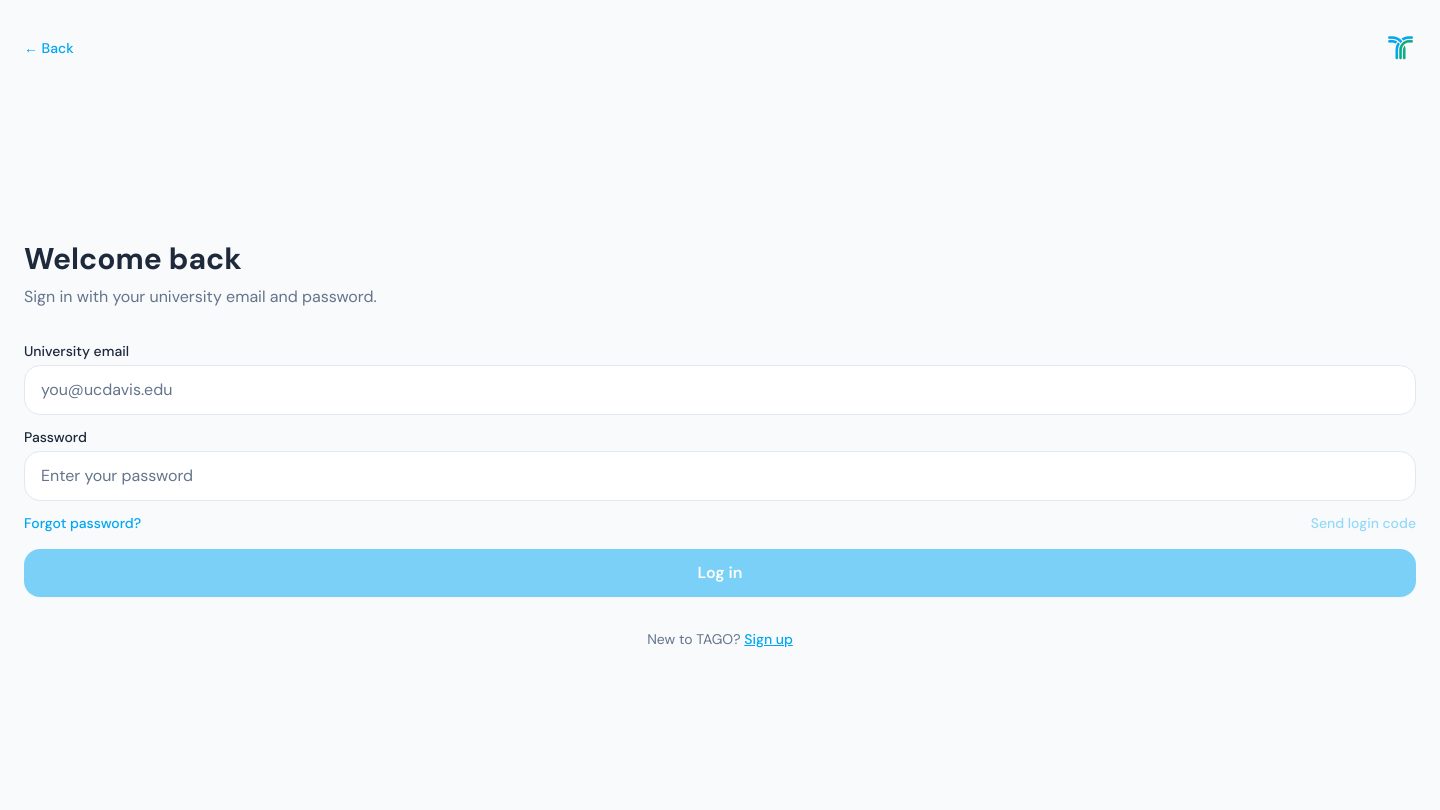
Test: Login screen › shows an error when a non-.edu email is typed
Type "maya@gmail.com" into the field with test id "email-input" at (720,390), box [24,365,1416,415]
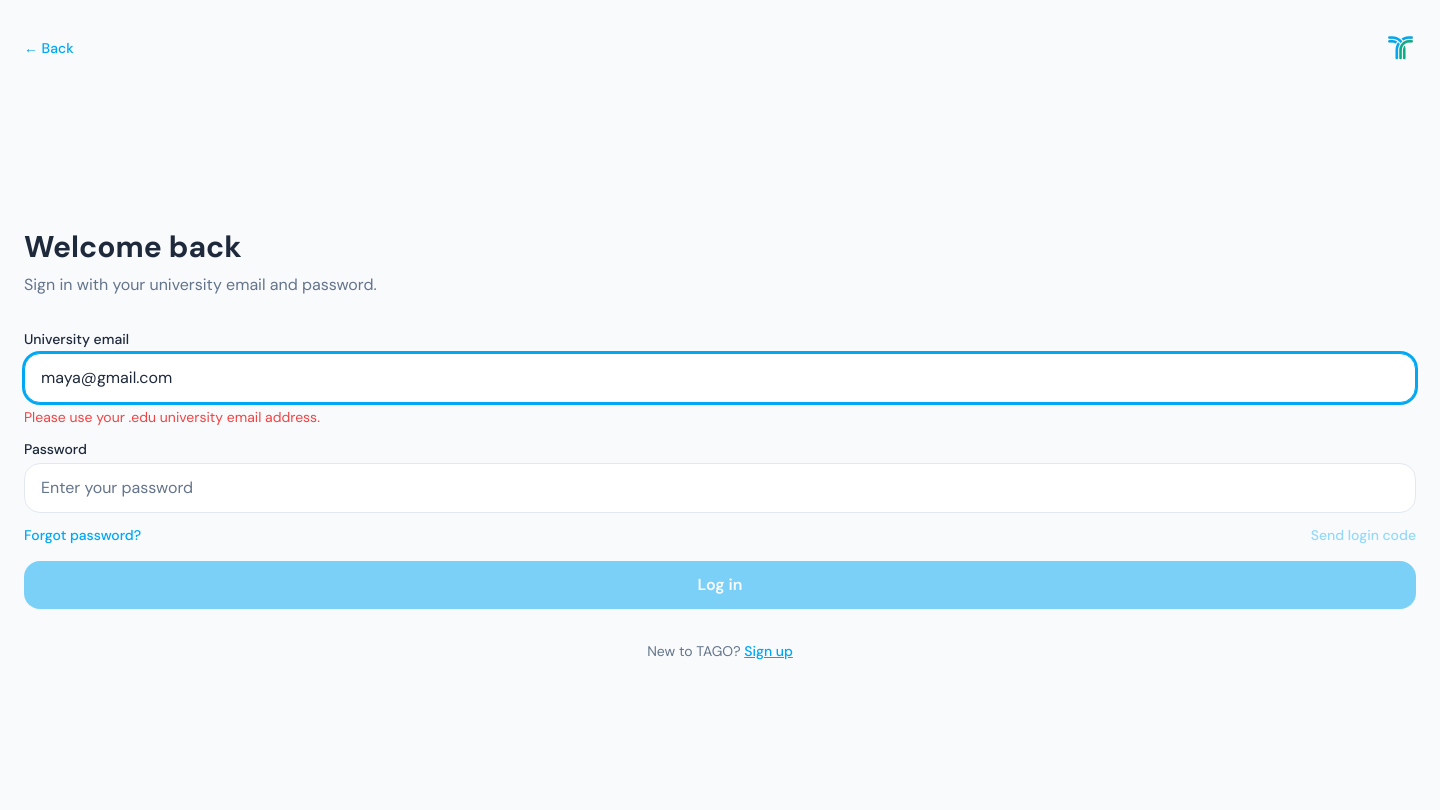
Expected: the message shows ".edu", [24,408,320,426]
